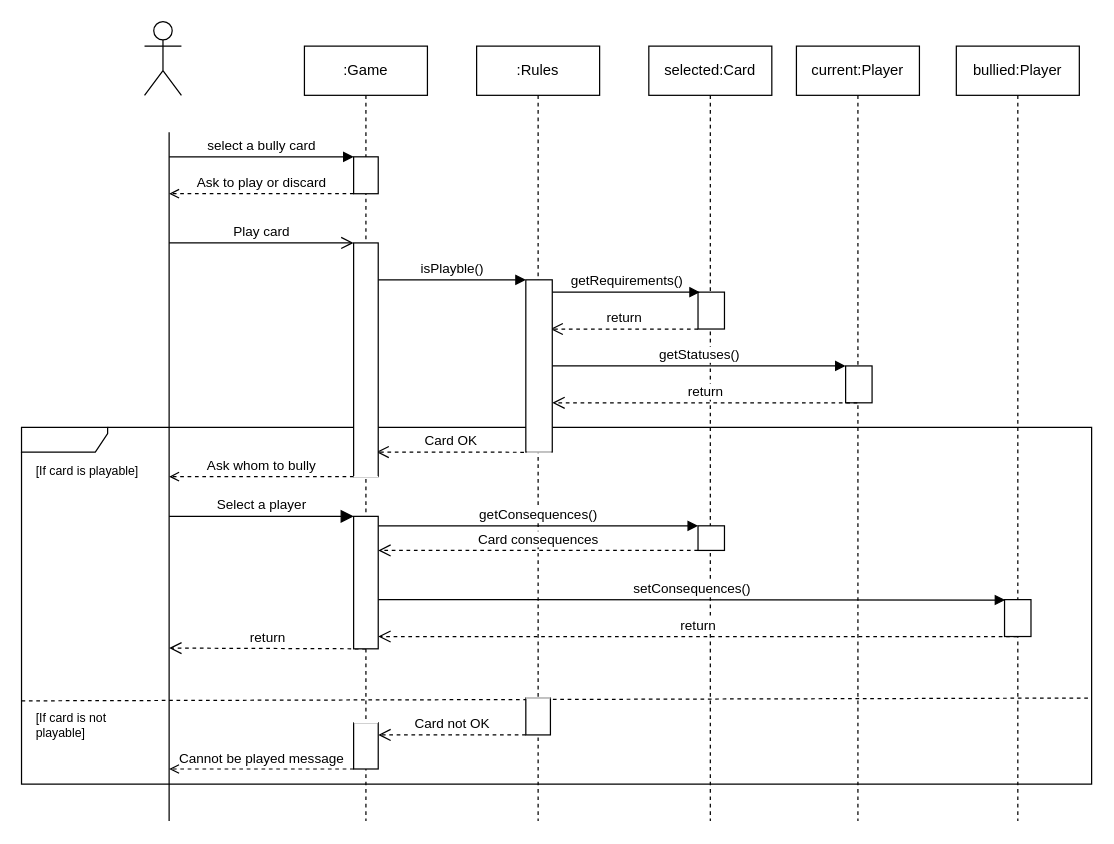
Image size: 1114x844. Some labels were removed from this diagram. The box of each missing label's shape, as (x1, y1, x2, y2) in pixels:
:Player: (143, 20, 181, 95)
Alternative: (20, 426, 1092, 784)
